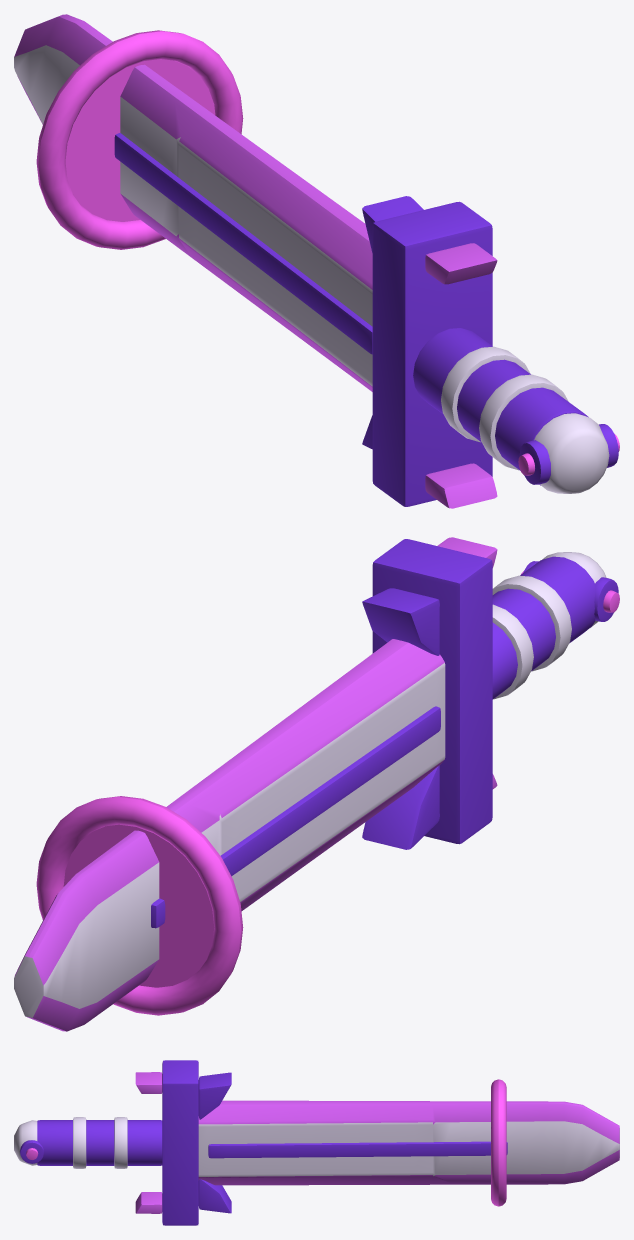
Rendered from Sword_ArchonsVerdict.glb.
The picture shows the model from 3 angles, top to bottom: view 1: azimuth 30°, elevation 25°; view 2: azimuth 150°, elevation 25°; view 3: azimuth 270°, elevation 25°; orthographic projection. The views are drawn at different scales.
Parts seen in each view (by area): view 1: Sword_ArchonsVerdict; view 2: Sword_ArchonsVerdict; view 3: Sword_ArchonsVerdict.
Boxes of the visible parts, x1,y1,x2,y2 form: Sword_ArchonsVerdict: (14,14,619,508); Sword_ArchonsVerdict: (14,537,619,1031); Sword_ArchonsVerdict: (14,1060,619,1225).
Bounding box in the file's own units: 0.21 × 0.26 × 1.
Materials: 1 (1 with a texture image).
